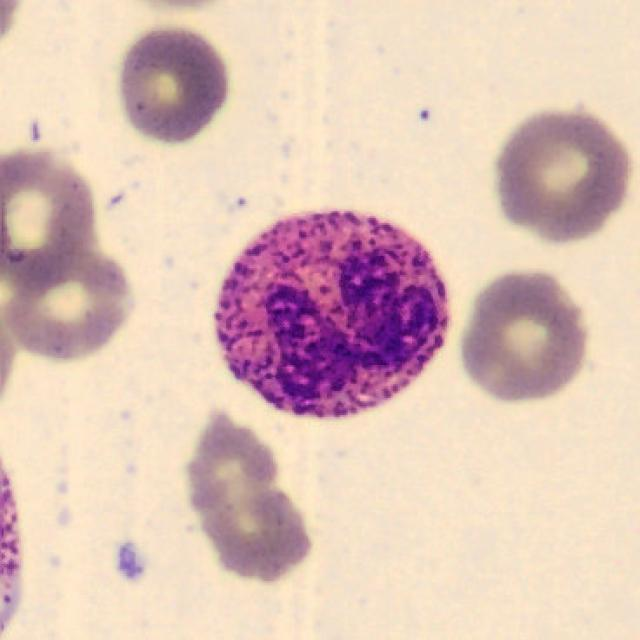Neutrofilo segmentado: (214, 209, 450, 420)
